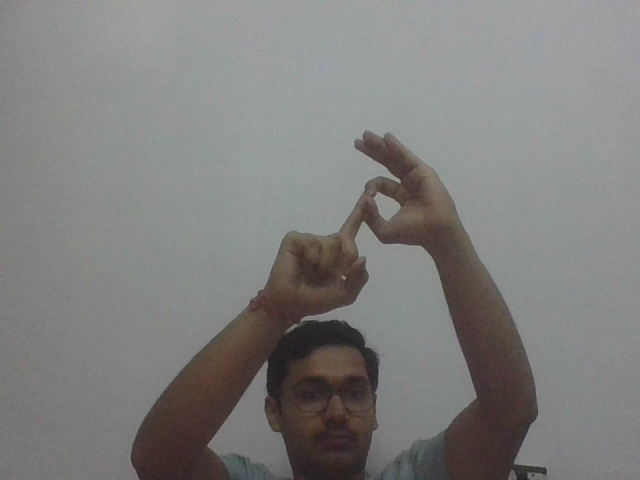Q: (263, 132, 455, 317)
